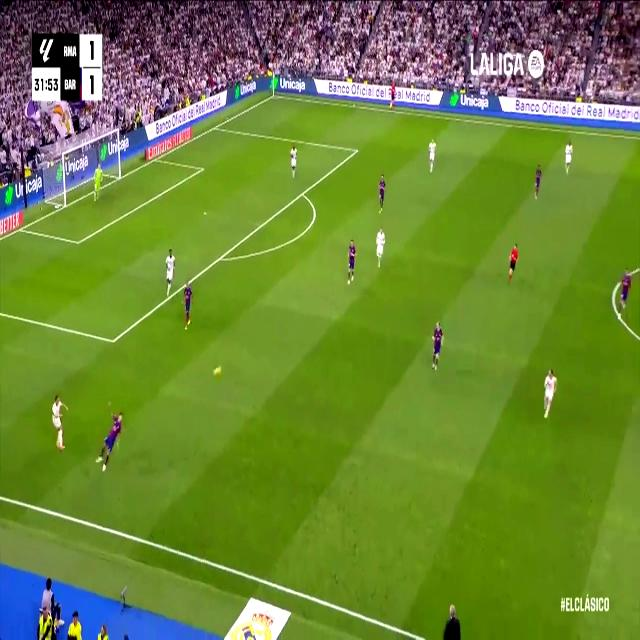bigarea_bottom_inner: (108, 329, 118, 351)
bigarea_top_inner: (353, 143, 359, 157)
bigarea_top_outter: (210, 120, 218, 132)
bottom_arc_area_intersection: (215, 248, 225, 266)
corner: (270, 90, 278, 100)
smallarea_bottom_inner: (74, 233, 82, 251)
smallarea_bottom_outter: (17, 222, 25, 236)
smallarea_top_inner: (200, 164, 204, 173)
top_arc_area_intersection: (298, 185, 306, 200)
